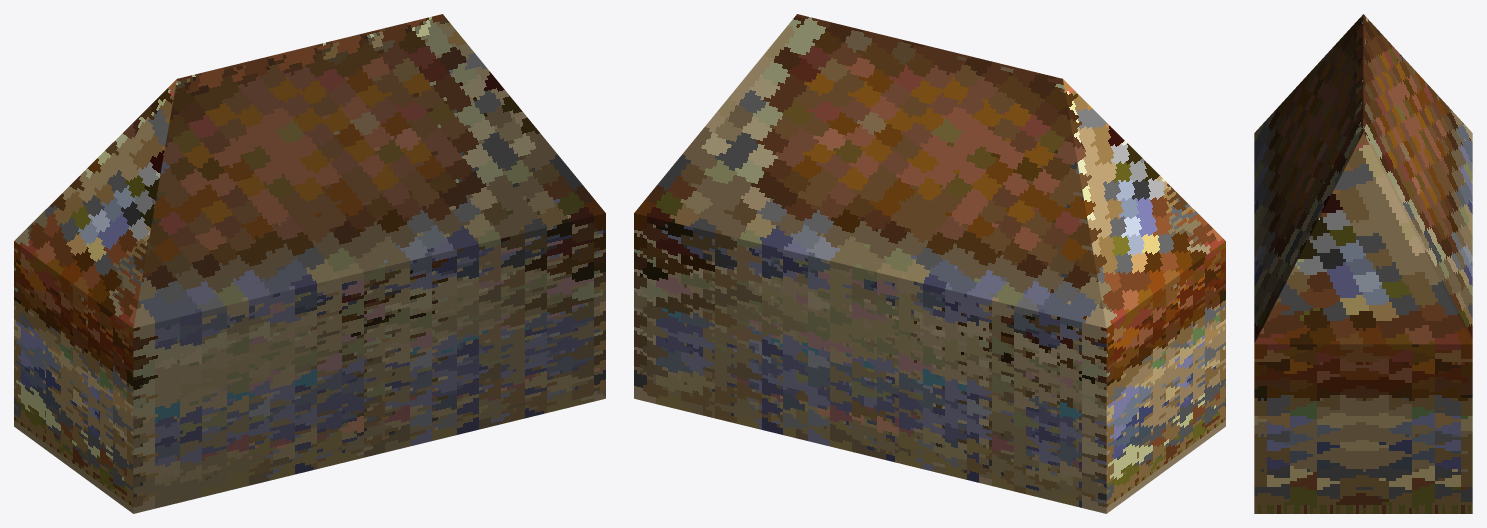
File: dum_38_domy_0.glb
3 renders of one model, left to right at view 1: azimuth 30°, elevation 25°; view 2: azimuth 150°, elevation 25°; view 3: azimuth 270°, elevation 25°, orthographic. The views are drawn at different scales.
Bounding box in the file's own units: 9.49 × 7.03 × 4.15.
Materials: 1 (1 with a texture image).
